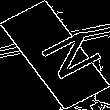N_SW: (16, 25, 94, 85)
